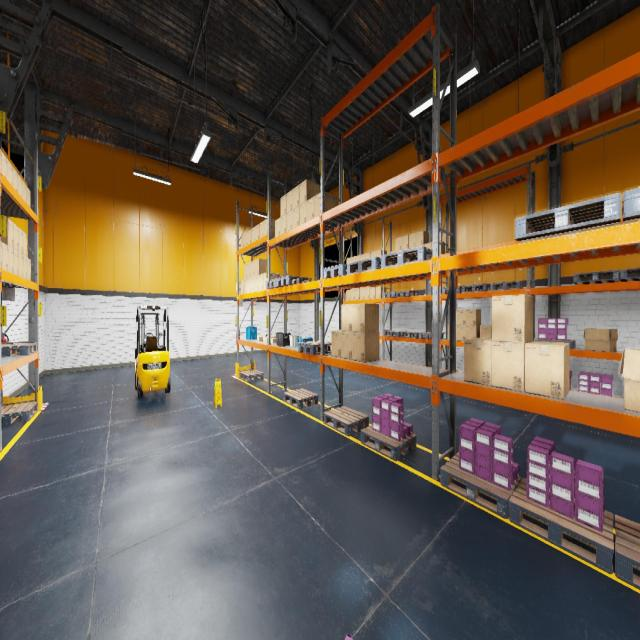box: (525, 341, 569, 399), (492, 295, 533, 343), (492, 341, 527, 392), (619, 348, 640, 412), (464, 338, 492, 386), (583, 328, 618, 352), (353, 332, 379, 362), (353, 304, 379, 332), (315, 191, 337, 217), (299, 179, 320, 205), (1, 217, 13, 249), (263, 272, 280, 290), (342, 331, 352, 360), (255, 258, 271, 276), (332, 330, 342, 357), (342, 304, 352, 331), (466, 310, 481, 326), (416, 230, 428, 246), (264, 218, 275, 235), (431, 241, 445, 254), (466, 326, 481, 338), (307, 196, 314, 221), (1, 150, 7, 179), (2, 242, 8, 271), (8, 246, 14, 274), (7, 159, 13, 186), (456, 325, 466, 341), (456, 309, 466, 325), (12, 167, 18, 192), (293, 184, 299, 209), (480, 325, 491, 338), (18, 227, 23, 255), (293, 205, 299, 228), (286, 190, 292, 213), (280, 194, 286, 217), (448, 325, 457, 340), (300, 202, 306, 224), (286, 210, 292, 231), (280, 214, 286, 234), (376, 286, 386, 298), (408, 232, 416, 247), (14, 223, 18, 252), (22, 180, 27, 203), (14, 250, 18, 276), (19, 252, 23, 278), (23, 231, 27, 257), (275, 218, 280, 237), (18, 174, 22, 197), (23, 256, 27, 279), (395, 237, 402, 250), (376, 249, 386, 258), (27, 258, 31, 280), (402, 235, 408, 249), (260, 221, 264, 238), (255, 223, 259, 240), (251, 260, 255, 277), (251, 226, 255, 242), (259, 274, 263, 290), (255, 275, 259, 291), (251, 276, 255, 292), (247, 277, 251, 293), (247, 262, 251, 278), (27, 186, 30, 207), (370, 286, 375, 298), (0, 241, 2, 269), (424, 242, 432, 249), (350, 290, 355, 300), (244, 278, 247, 294), (244, 263, 247, 279), (248, 229, 251, 244), (240, 279, 243, 294), (365, 288, 369, 299), (355, 289, 359, 300), (244, 232, 247, 246), (241, 234, 244, 248), (360, 289, 364, 299), (346, 290, 350, 300), (265, 333, 274, 337), (370, 251, 376, 257), (365, 252, 370, 259), (346, 257, 351, 264), (257, 336, 263, 341), (360, 254, 365, 260), (355, 255, 360, 261), (351, 256, 355, 263), (270, 338, 276, 342), (408, 246, 416, 249), (416, 244, 423, 247), (0, 149, 1, 169), (491, 309, 492, 325), (265, 337, 267, 343), (491, 326, 492, 338), (263, 336, 265, 341)
forklift: (135, 306, 170, 398)
pallets: (509, 478, 614, 574), (440, 452, 520, 519), (515, 193, 621, 243), (361, 425, 416, 461), (614, 515, 640, 590), (324, 406, 368, 435), (381, 246, 432, 268), (1, 402, 38, 425), (622, 187, 640, 224), (284, 389, 318, 408), (574, 270, 620, 284), (346, 256, 381, 274), (1, 342, 37, 357), (297, 341, 331, 355), (324, 264, 356, 278), (276, 275, 312, 287), (535, 339, 575, 349), (240, 369, 264, 382), (491, 281, 524, 290), (620, 268, 640, 281), (462, 284, 490, 292), (400, 331, 424, 338), (419, 332, 443, 339), (442, 286, 462, 294), (396, 290, 418, 297), (384, 330, 405, 337), (266, 278, 280, 288), (382, 292, 400, 298)
